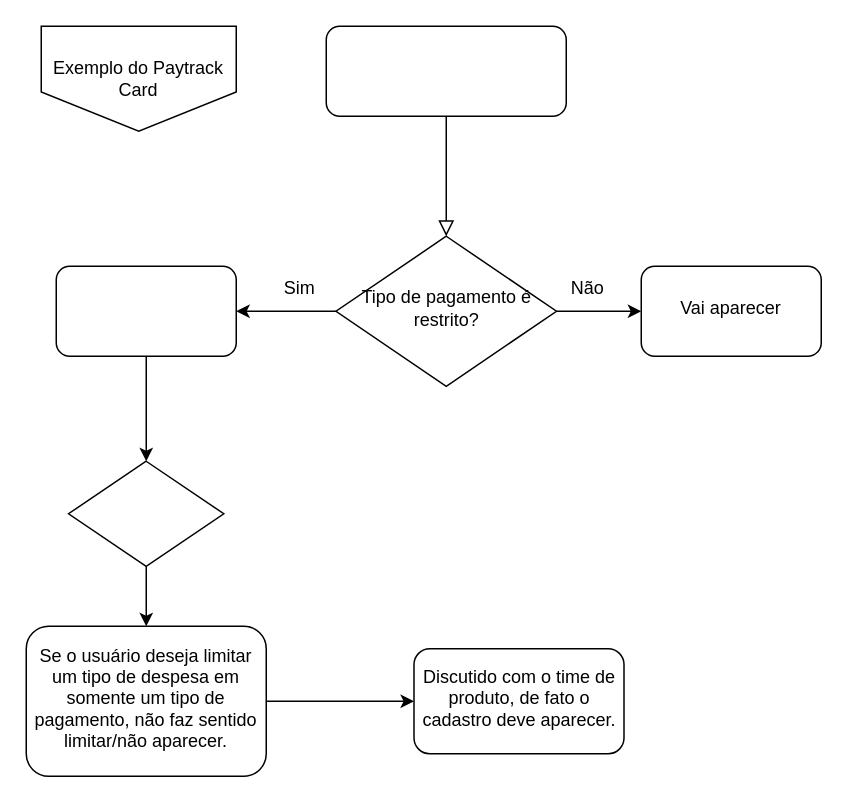
The diagram is 848 pixels wide and 803 high, and some of its shapes have lost their labels. The centre of each missing label's shape, as x and y in pixels:
"Faz sentido?" goes at pixel 145 513.
"Não vai aparecer" goes at pixel 145 310.
"Usuário tenta adicionar um tipo de pagamento na despesa" goes at pixel 445 70.
